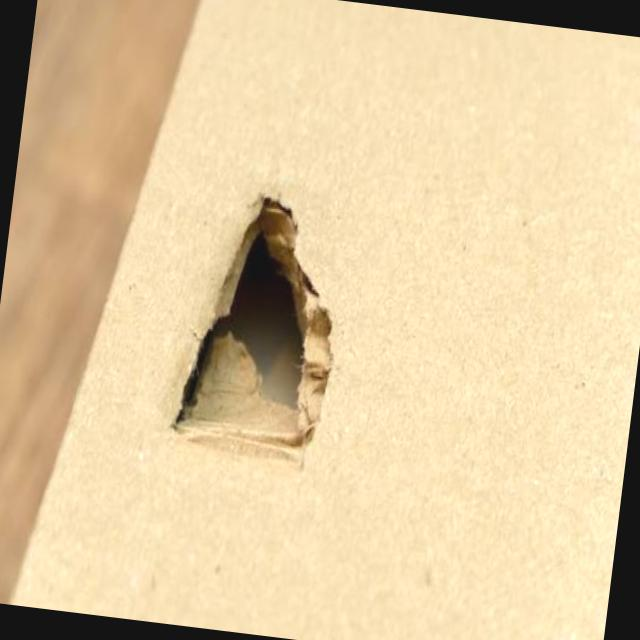package_damage: (144, 169, 399, 486)
